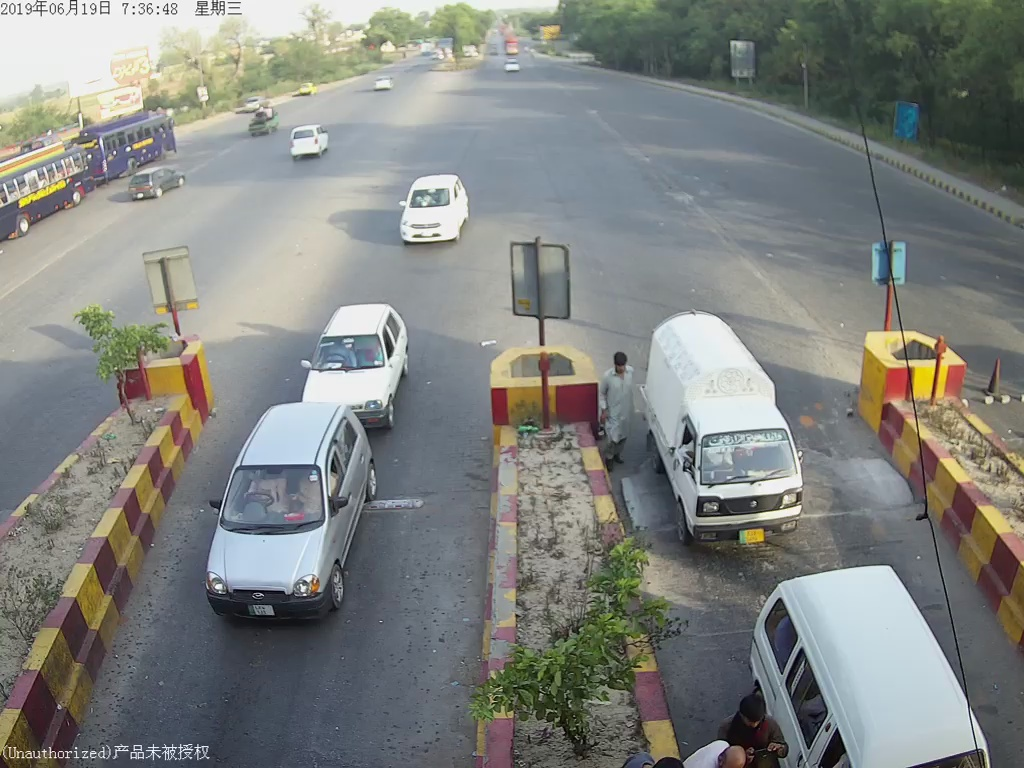Cat-1: (645, 310, 804, 548), (197, 401, 369, 618), (296, 295, 408, 427), (395, 172, 476, 244)
